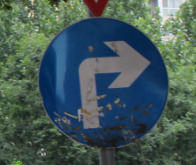right_turn: (39, 17, 168, 148)
